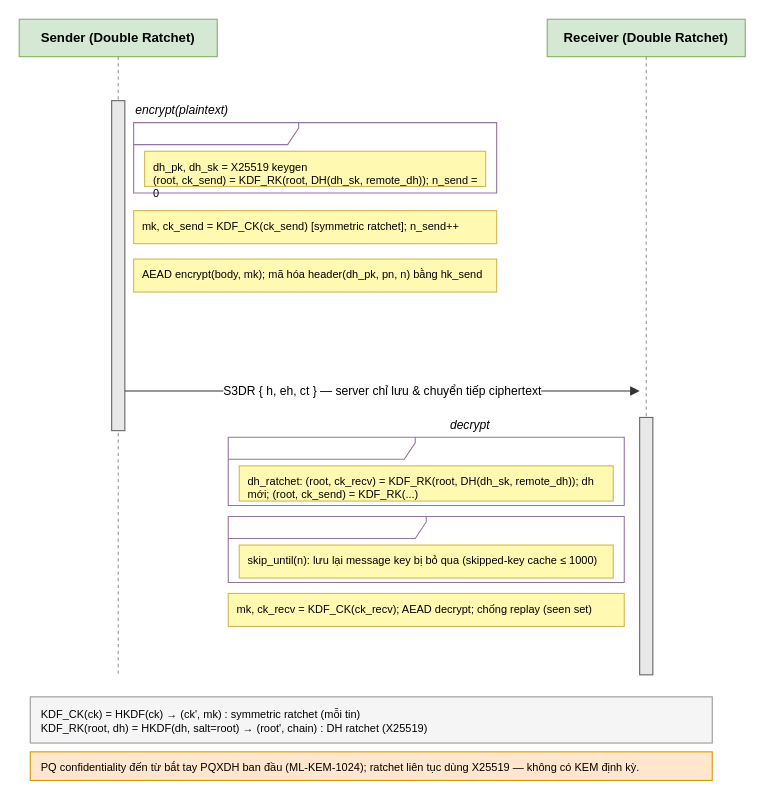
The diagram is 765 pixels wide and 800 high, and some of its shapes have lost their labels. The box of each missing label's shape, as (x1, y1, x2, y2) in pixels:
opt [header.dh ≠ remote_dh]: (227, 436, 624, 505)
opt [n > n_recv (lệch thứ tự)]: (227, 515, 624, 582)
opt [needs_send_ratchet]: (133, 122, 497, 193)
